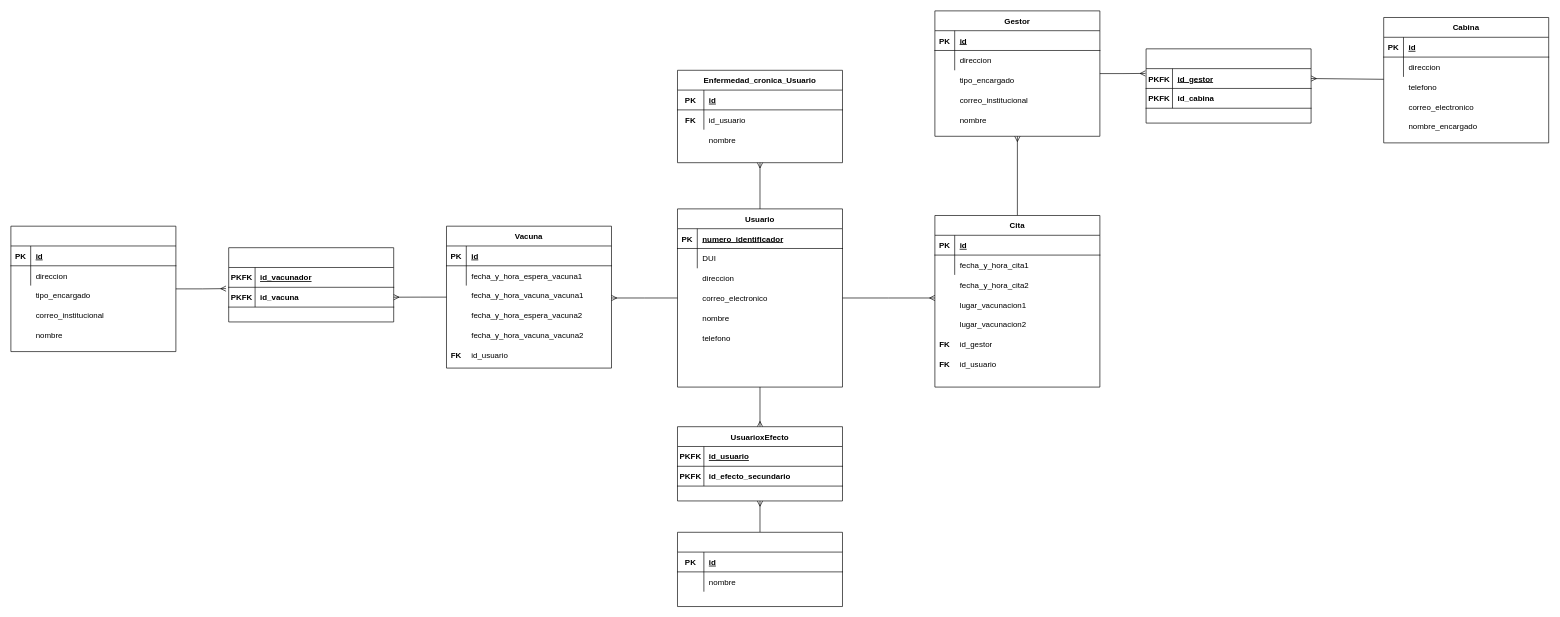
This 1560x617 diagram has some shape labels left out. Here are the shapes that lost their labels. From the top down, the box of each, then its label:
(1145, 48, 1311, 123): Inicio_sesion
(10, 226, 176, 352): Vacunador
(228, 247, 394, 322): Aplica
(677, 532, 842, 607): Efecto_secundario
